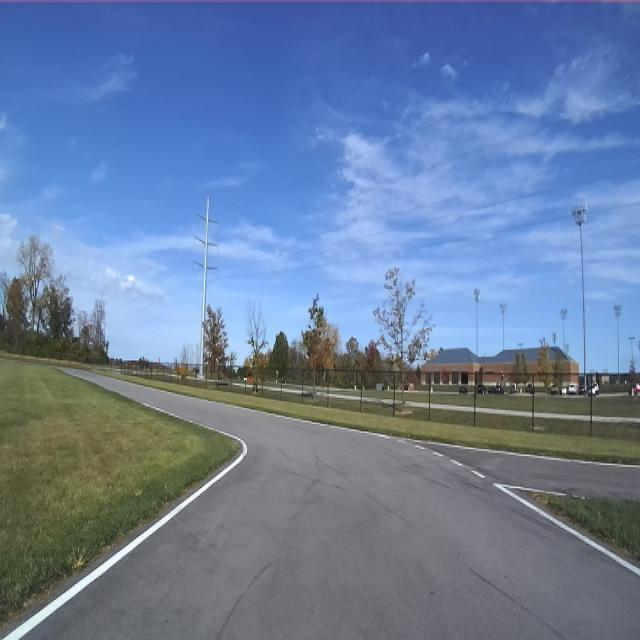white-line: (0, 402, 248, 639), (494, 483, 640, 576), (260, 412, 399, 439), (471, 470, 484, 478), (450, 460, 463, 466), (414, 444, 426, 449), (433, 451, 443, 456), (397, 439, 406, 443)
